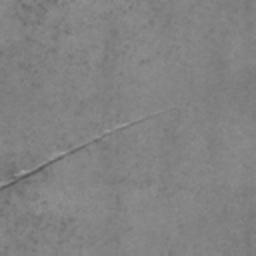Finishing roll printing: (0, 108, 175, 192)
